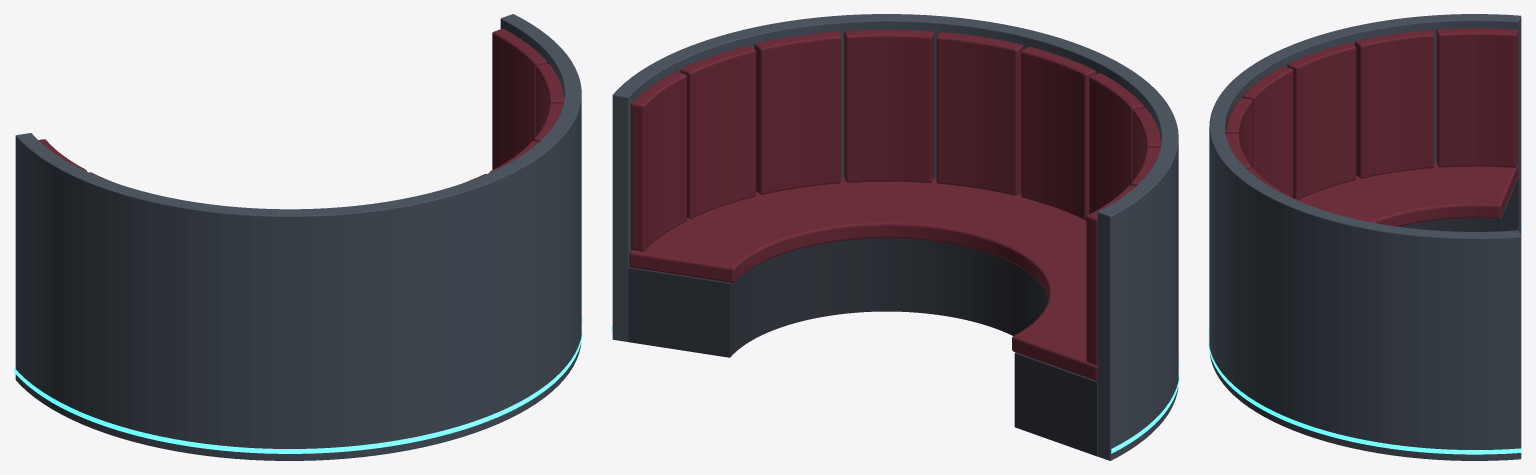
Rendered from cantina_03_curved_booth.glb.
3 views of the same model, side by side, from view 1: azimuth 30°, elevation 25°; view 2: azimuth 150°, elevation 25°; view 3: azimuth 270°, elevation 25° (orthographic). The views are drawn at different scales.
Visible parts, largest first — view 1: Booth_Outer_Armor_Shell, Booth_Backrest_Cushions, Booth_Cyan_Base_Strip; view 2: Booth_Backrest_Cushions, Booth_Outer_Armor_Shell, Booth_Kickplate, Booth_Seat_Cushions; view 3: Booth_Outer_Armor_Shell, Booth_Backrest_Cushions, Booth_Seat_Cushions, Booth_Kickplate, Booth_Cyan_Base_Strip.
Part boxes in pixels (x1,y1,x2,y2): Booth_Outer_Armor_Shell: (15,14,581,460); Booth_Backrest_Cushions: (38,28,563,182); Booth_Cyan_Base_Strip: (14,316,582,453); Booth_Backrest_Cushions: (631,29,1160,365); Booth_Outer_Armor_Shell: (612,14,1178,460); Booth_Kickplate: (628,238,1097,456); Booth_Seat_Cushions: (629,178,1097,380); Booth_Outer_Armor_Shell: (1209,14,1521,460); Booth_Backrest_Cushions: (1225,28,1518,206); Booth_Seat_Cushions: (1298,163,1518,226); Booth_Kickplate: (1399,177,1518,231); Booth_Cyan_Base_Strip: (1208,226,1521,454).
Size of the model in its own units: 2.71 by 1.25 by 1.59.
